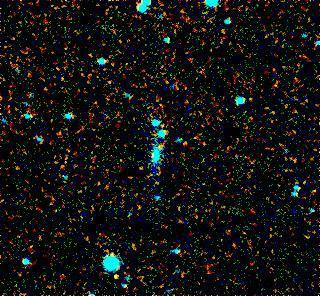star: (101, 260, 131, 290)
